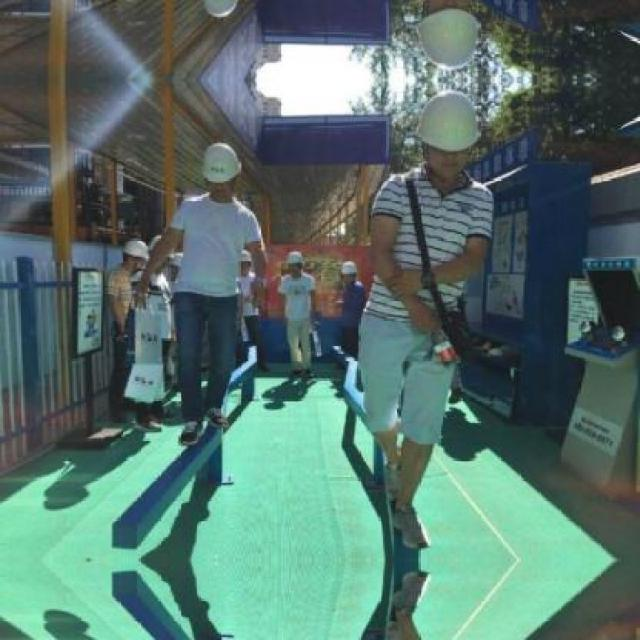helmet: (410, 87, 479, 181), (409, 0, 480, 74), (198, 138, 242, 198), (199, 0, 243, 23), (120, 238, 148, 270), (281, 247, 304, 276), (338, 258, 360, 284), (235, 247, 254, 276)
